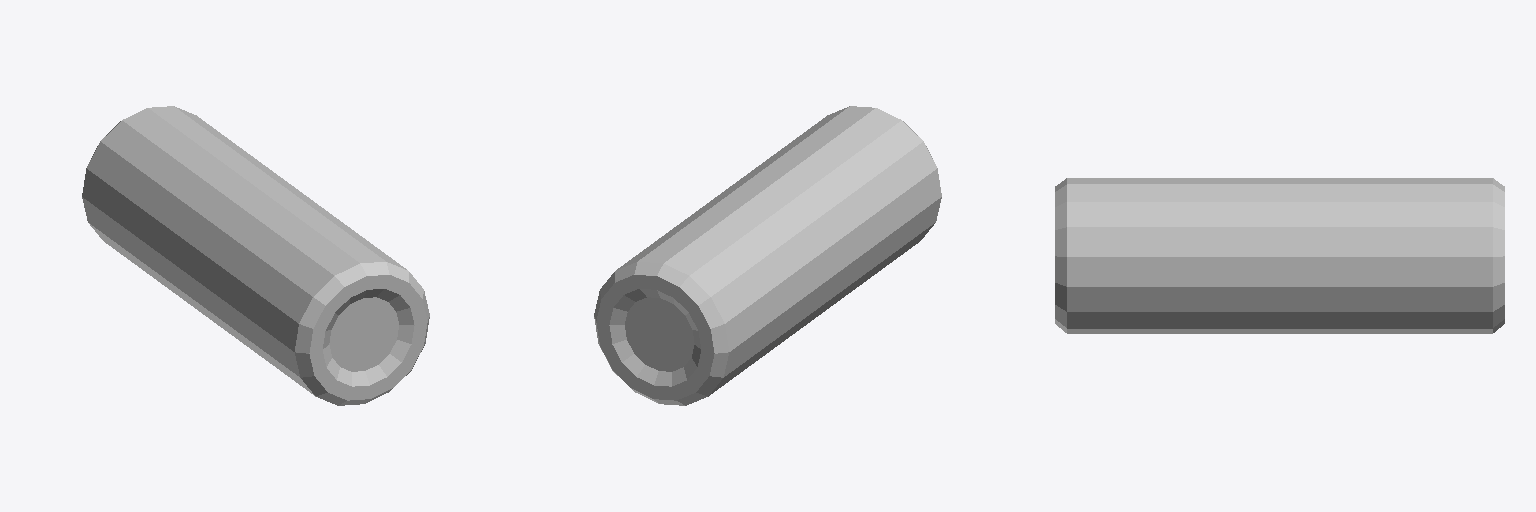
Rendered from carWheel.obj.
The picture shows the model from 3 angles: view 1: azimuth 30°, elevation 25°; view 2: azimuth 150°, elevation 25°; view 3: azimuth 270°, elevation 25°; orthographic projection.
Visible parts, largest first — view 1: Circle.004_Circle.002; view 2: Circle.004_Circle.002; view 3: Circle.004_Circle.002.
Boxes of the visible parts, box(x1,y1,x2,y2) form: Circle.004_Circle.002: box(82, 106, 429, 405); Circle.004_Circle.002: box(594, 106, 941, 405); Circle.004_Circle.002: box(1055, 178, 1504, 333).
Size of the model in its own units: 0.3678 by 0.3678 by 1.06.